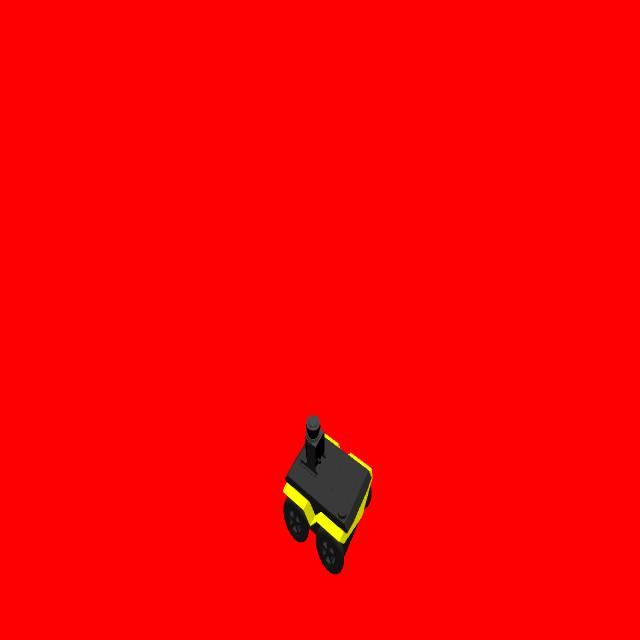jackal: (282, 411, 372, 578)
